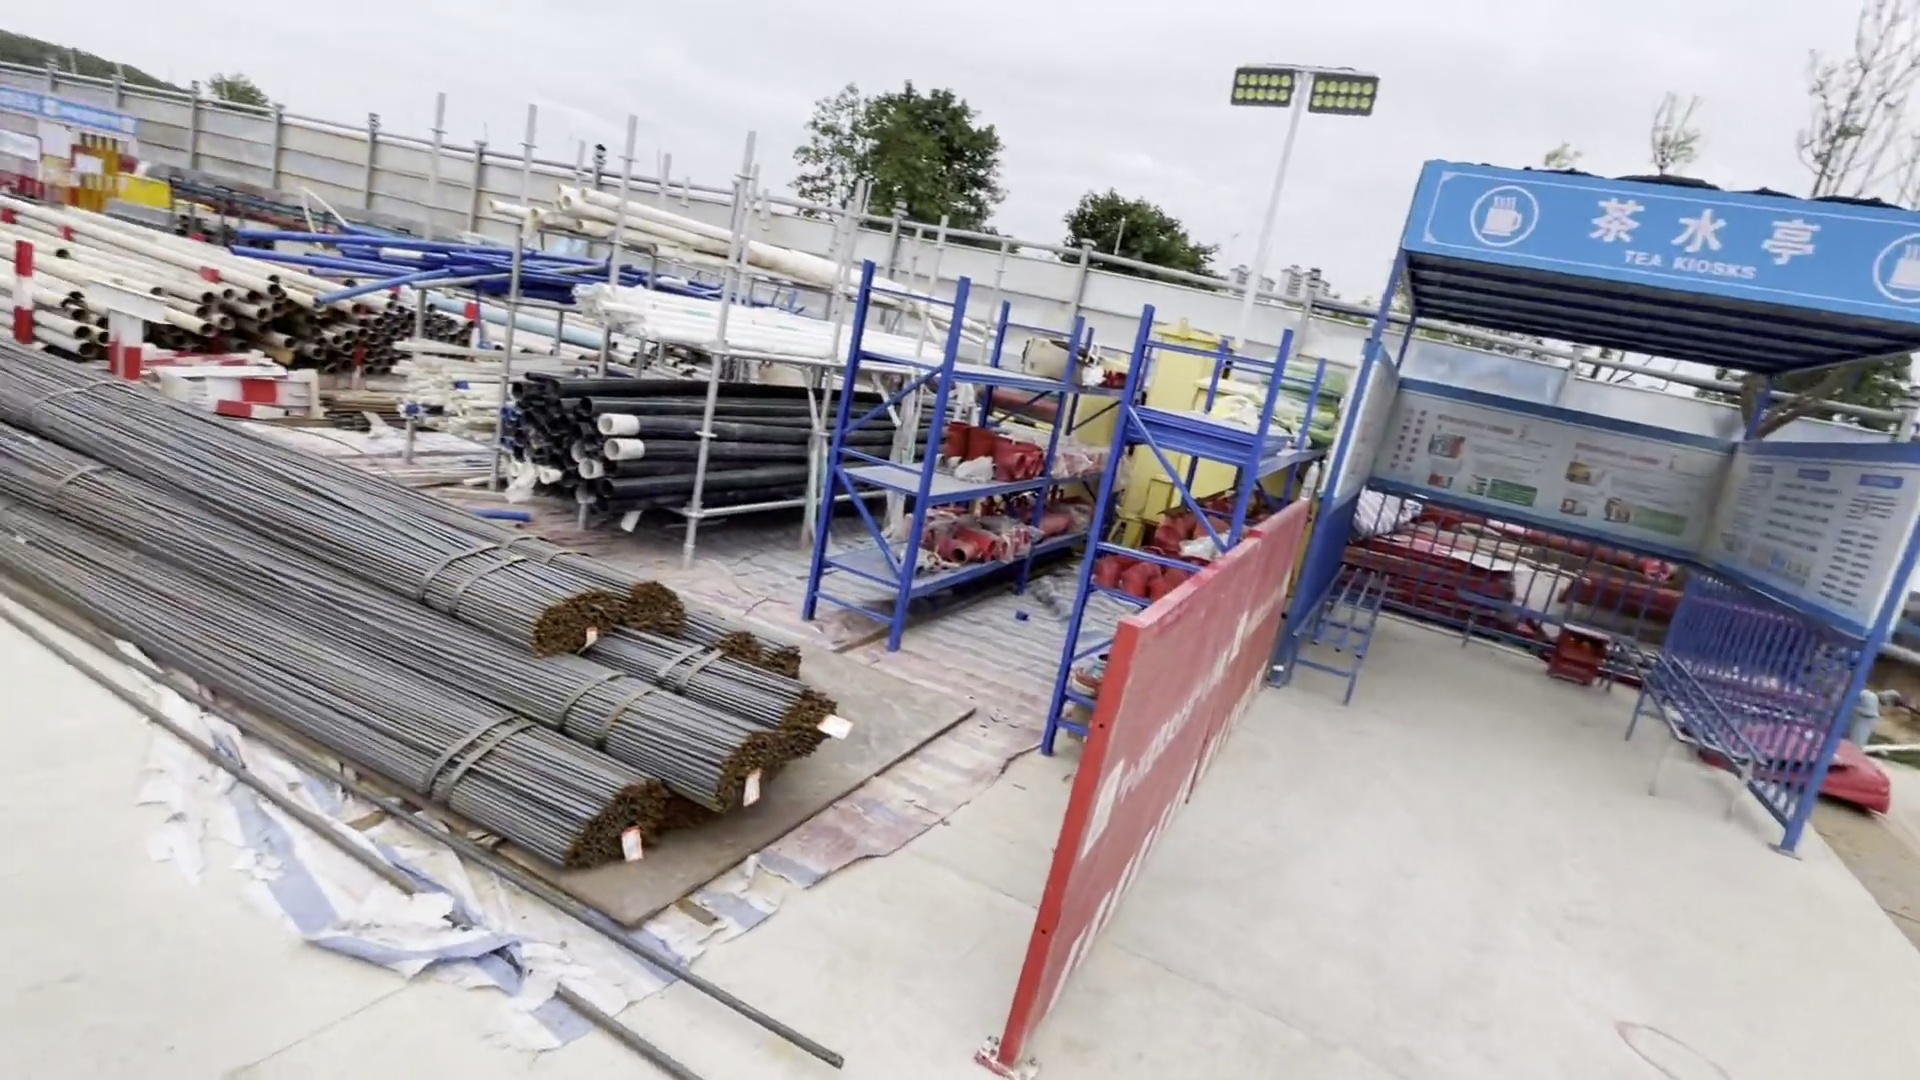ebox: (1105, 316, 1267, 508)
rebar: (1, 328, 862, 923)
